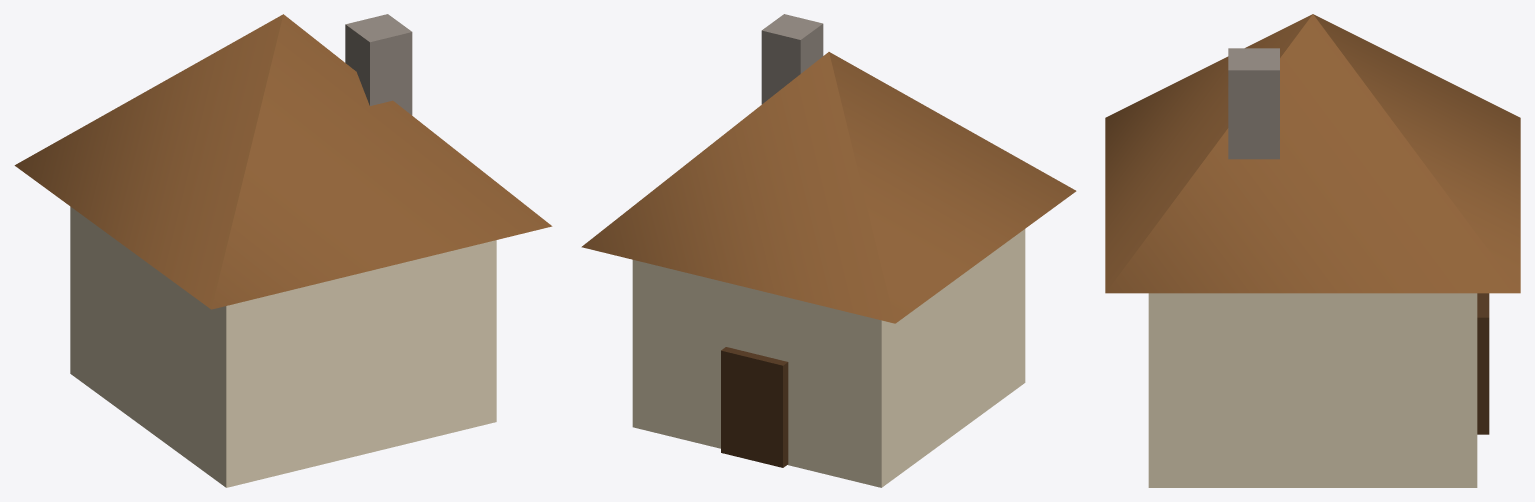
File: house.glb
The picture shows the model from 3 angles, left to right: view 1: azimuth 30°, elevation 25°; view 2: azimuth 150°, elevation 25°; view 3: azimuth 270°, elevation 25°; orthographic projection. The views are drawn at different scales.
Parts seen in each view (by area): view 1: house_roof, house_walls, house_chimney; view 2: house_roof, house_walls, house_door, house_chimney; view 3: house_roof, house_walls, house_chimney, house_door.
Part boxes in pixels (box(x1,y1,x2,y2)): house_roof: box(14, 14, 552, 309); house_walls: box(70, 206, 496, 487); house_chimney: box(345, 14, 412, 115); house_roof: box(581, 52, 1076, 323); house_walls: box(632, 229, 1025, 487); house_door: box(721, 347, 788, 467); house_chimney: box(761, 14, 823, 104); house_roof: box(1105, 14, 1520, 293); house_walls: box(1148, 293, 1477, 487); house_chimney: box(1228, 48, 1279, 159); house_door: box(1477, 293, 1489, 434).
Size of the model in its own units: 1.77 by 1.9 by 1.77.
